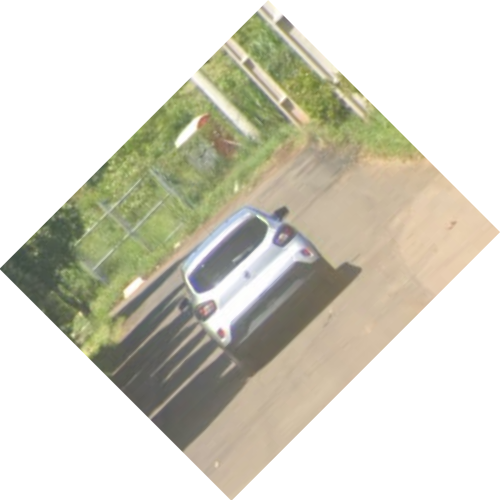car: (174, 205, 345, 375)
